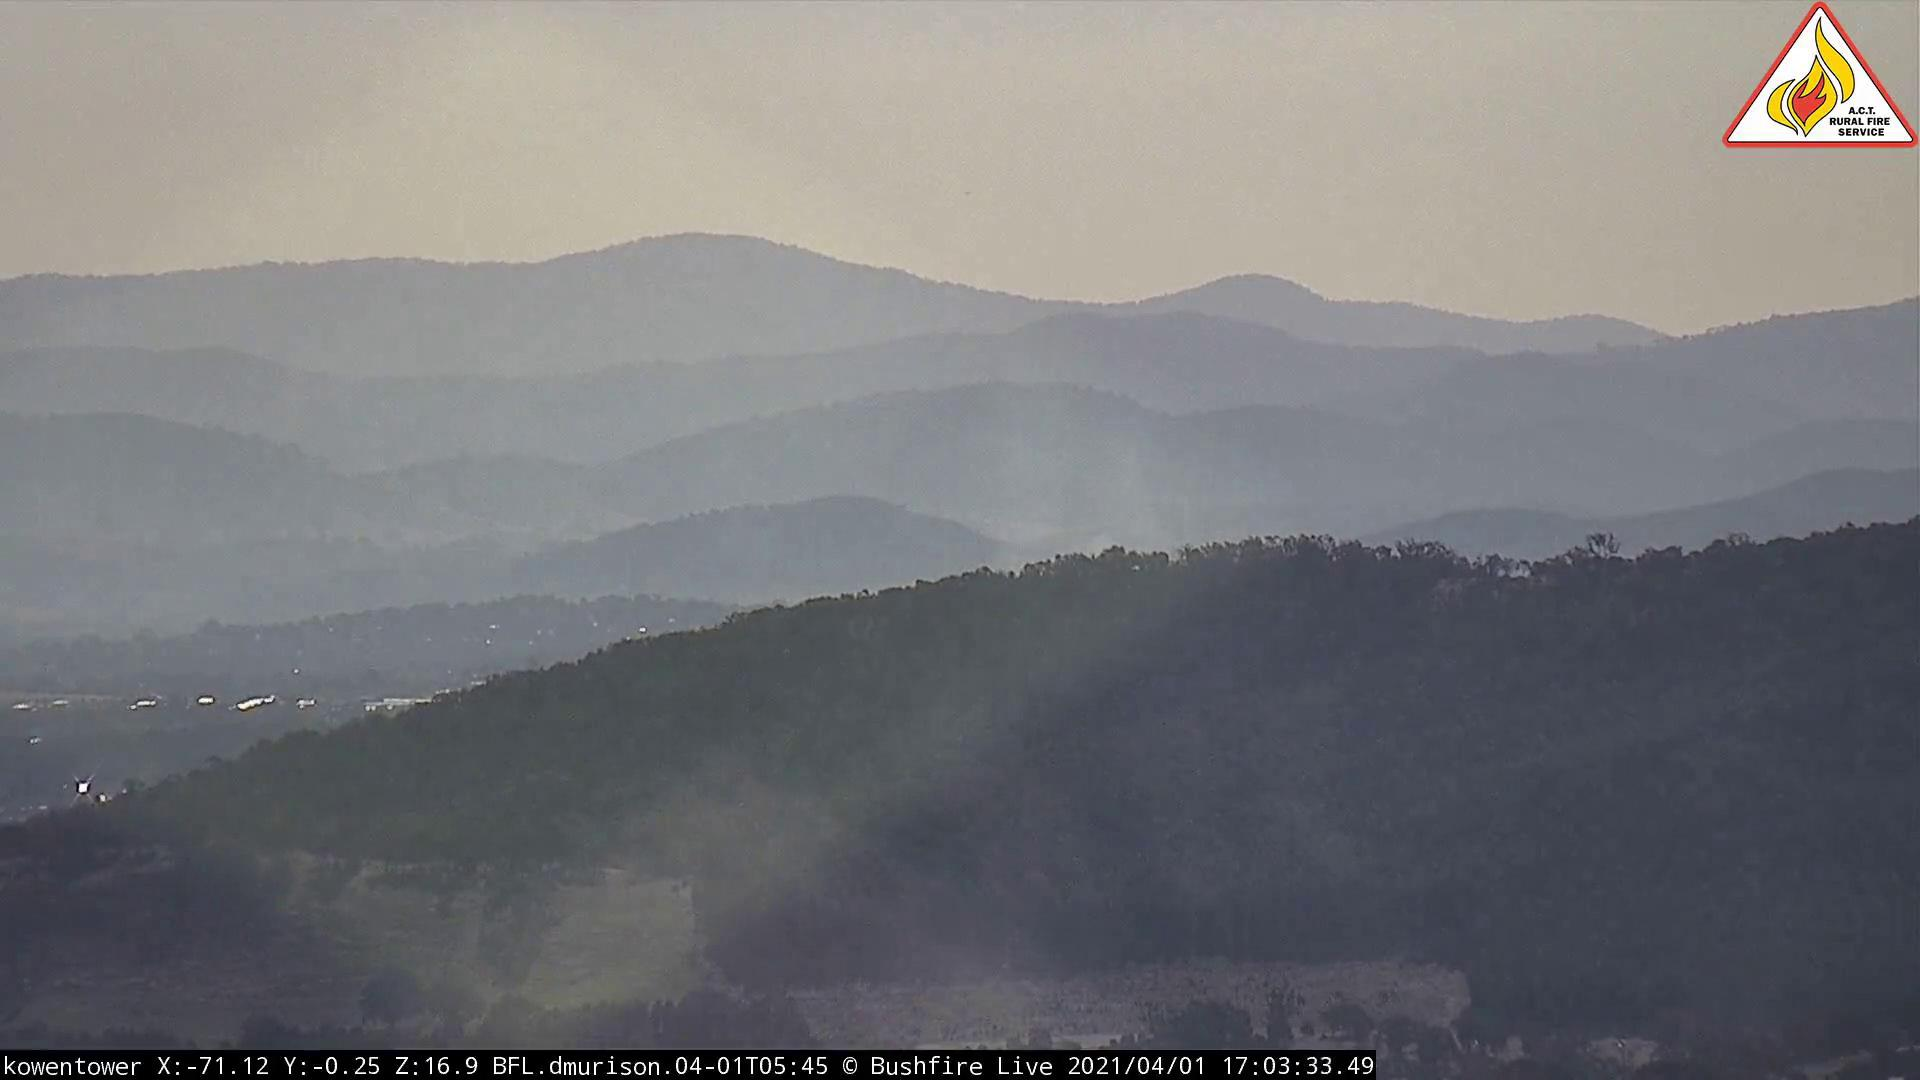instance_salient_object: (998, 390, 1225, 582)
